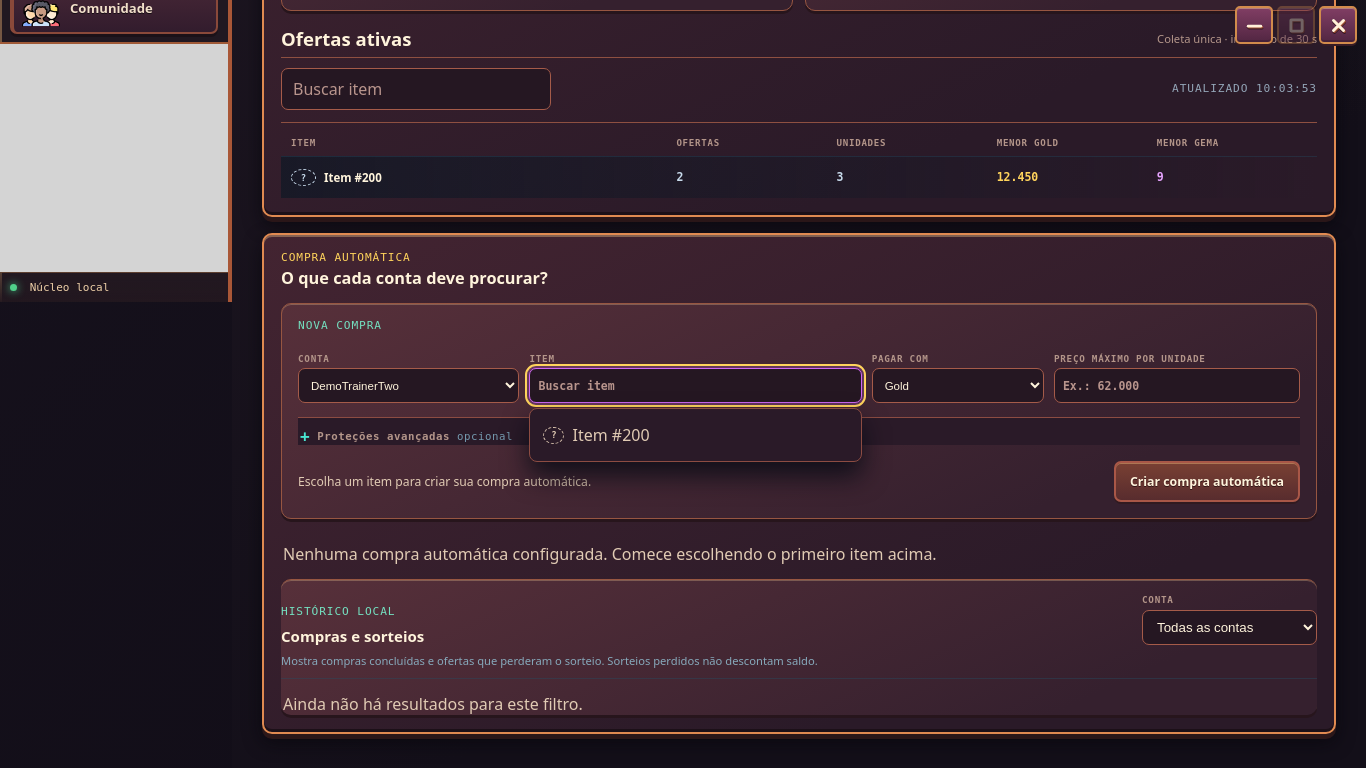
Pokeidle Manager UI › keeps the current minimum-price hint inside the input and follows item currency
Click the option "? Item #200".
click(611, 435)  # box [536,414,856,456]
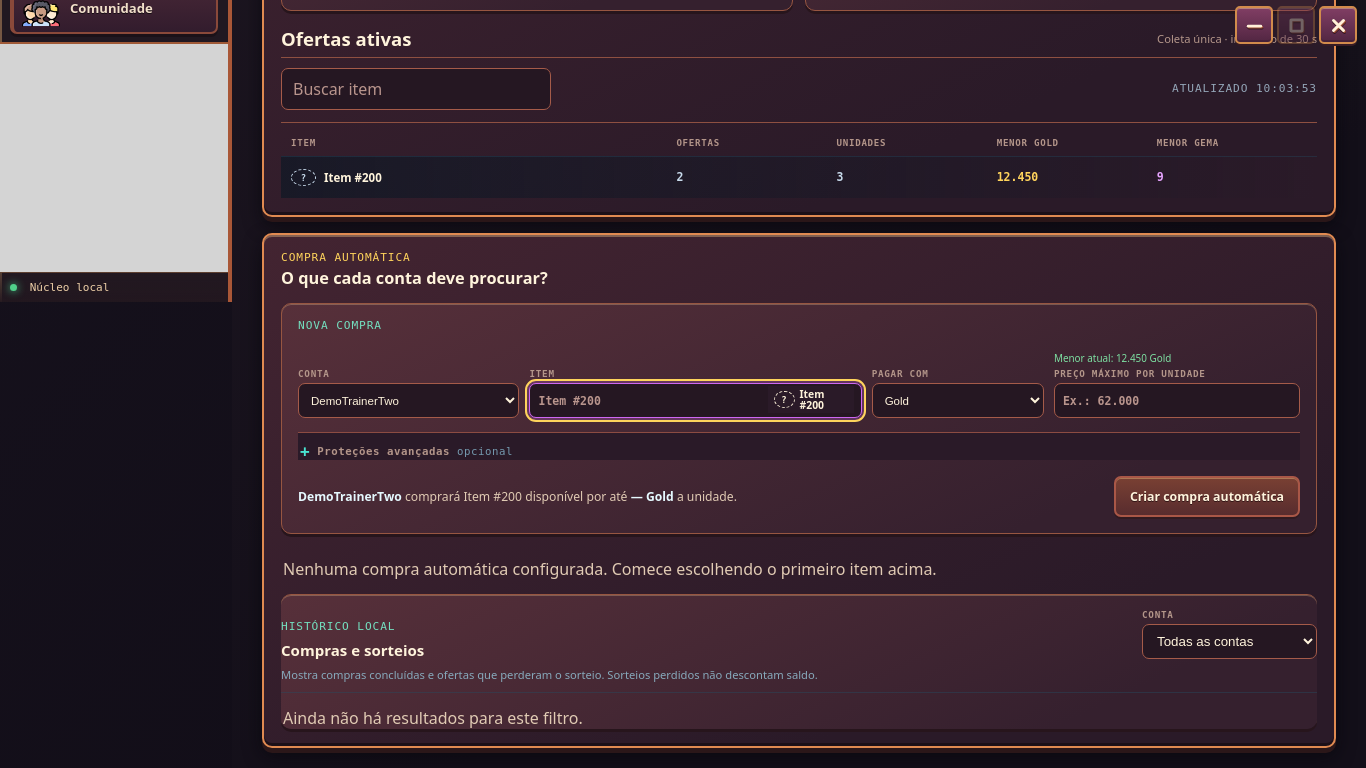
Expected: the text with id "market-min-current-hint" reads "Menor atual: 12.450 Gold", [1054,351,1171,365]
Select "Gemas" in the dropdown labelled "Pagar com" at (958, 401), box [872,383,1044,418]
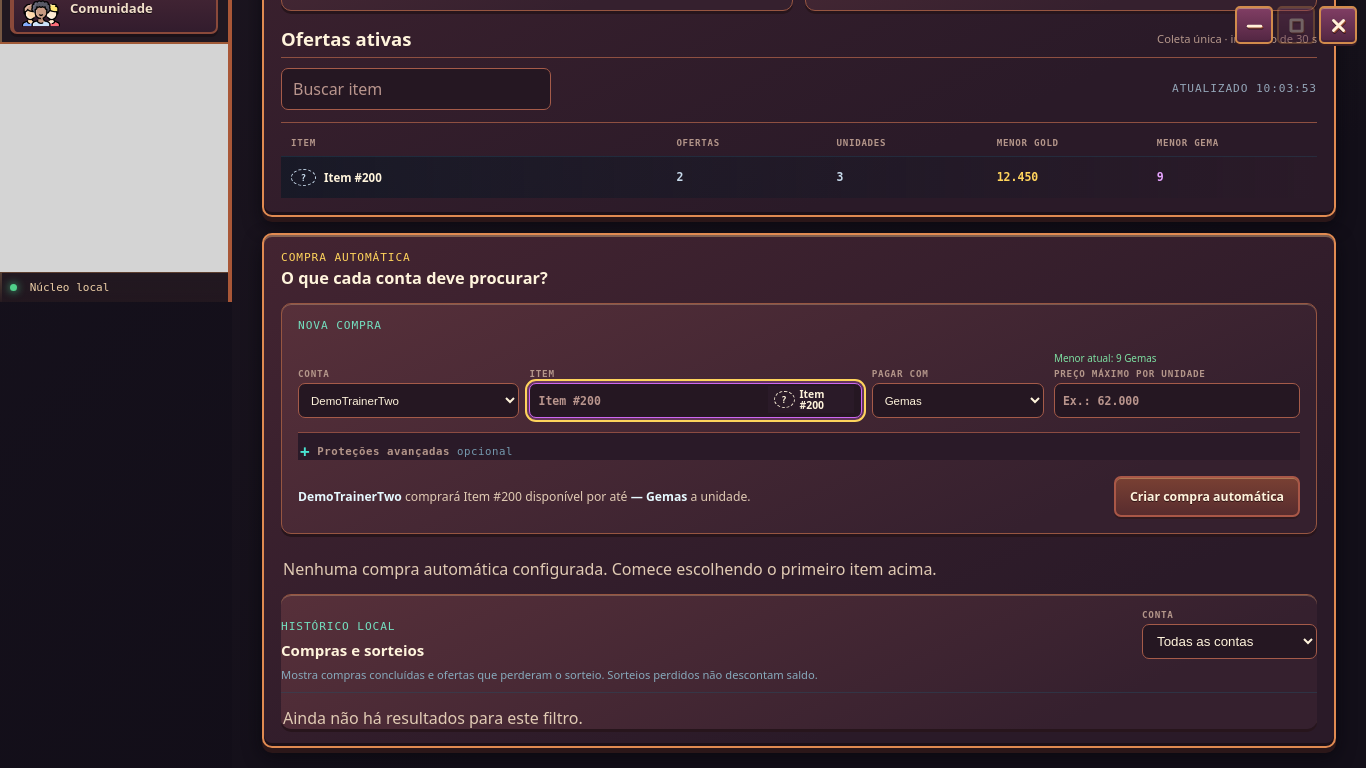
Expected: the text with id "market-min-current-hint" reads "Menor atual: 9 Gemas", [1054,351,1156,365]
